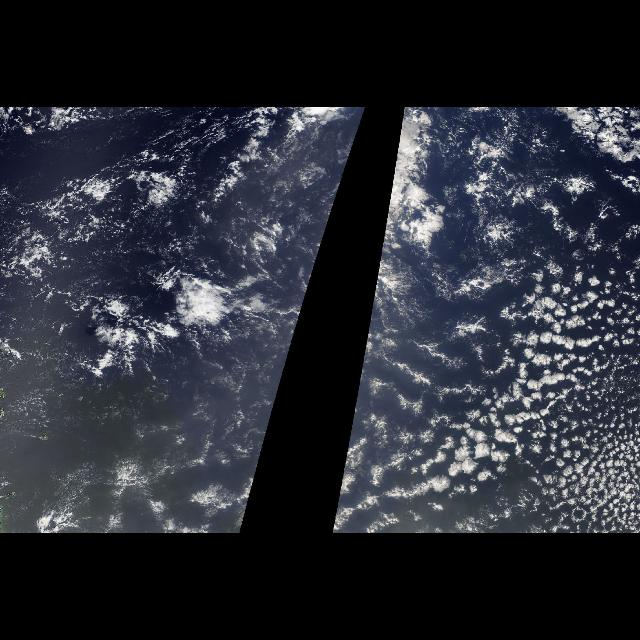Flower: (354, 255, 640, 532)
Gravel: (112, 240, 278, 344)
Sugar: (0, 107, 220, 263), (7, 362, 271, 488)
